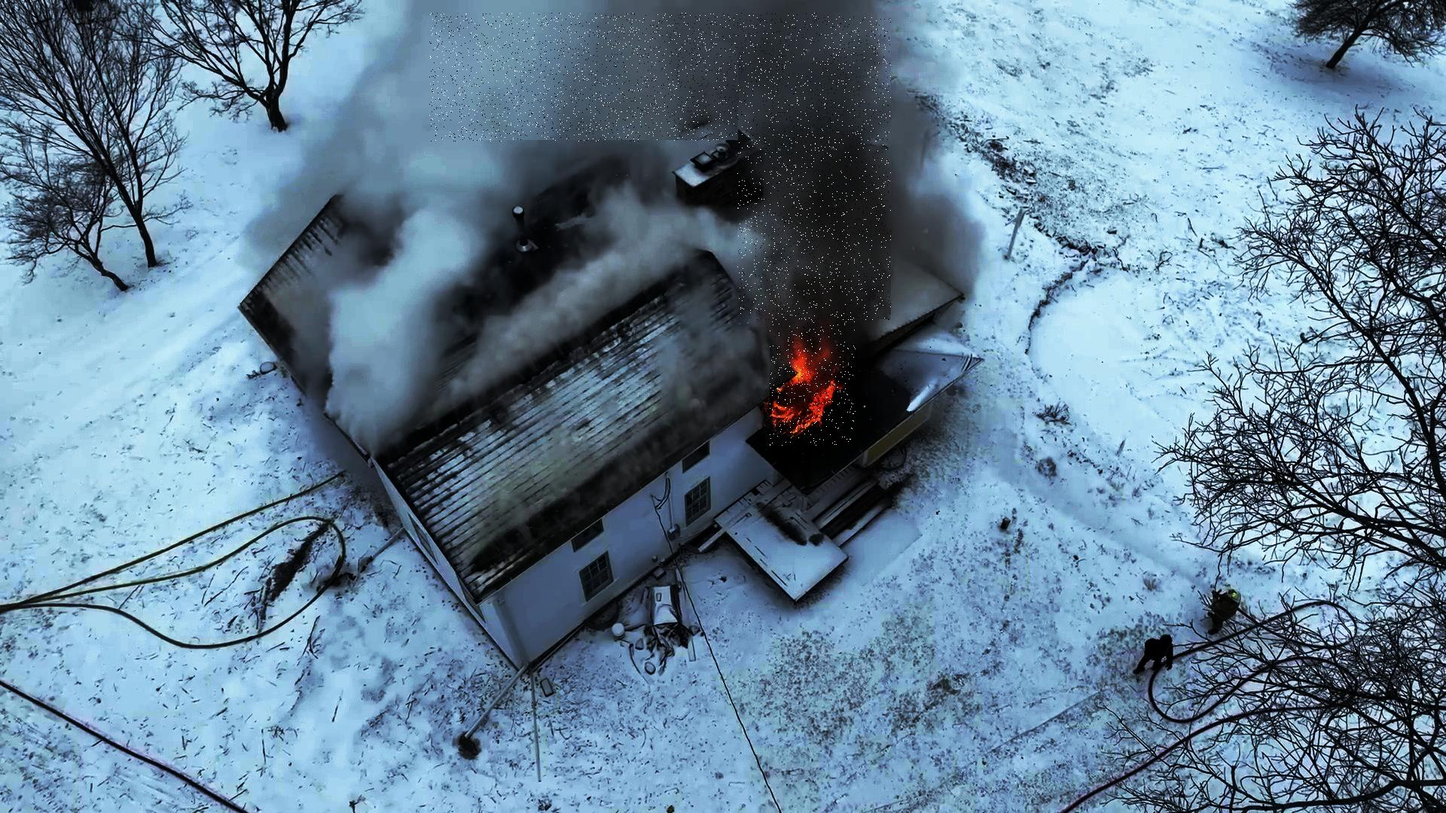fire: (770, 320, 856, 446)
smoke: (429, 13, 820, 142), (737, 17, 891, 321)
